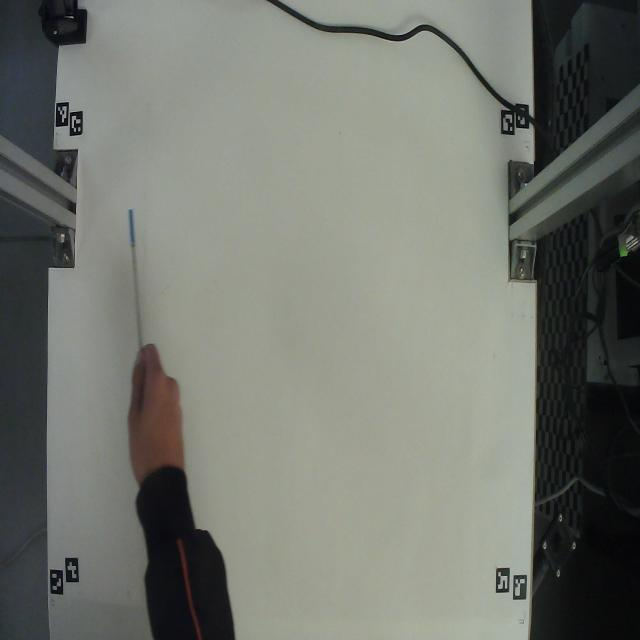NoPres: (119, 186, 148, 358)
